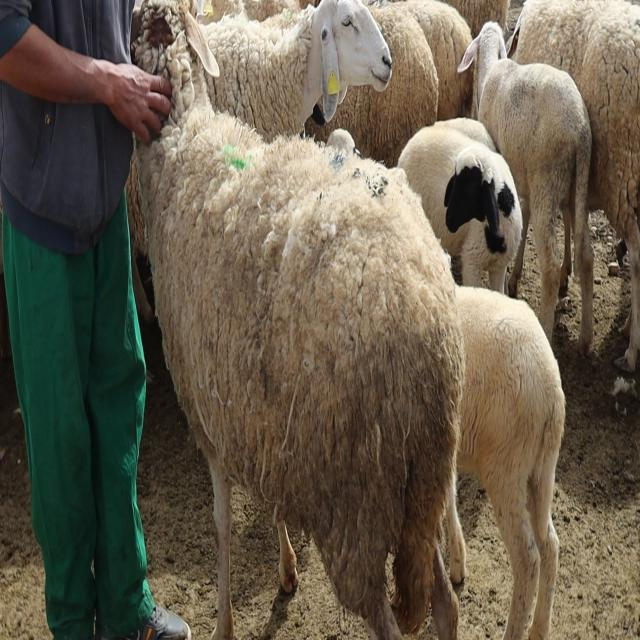Score_3: (131, 0, 465, 639)
